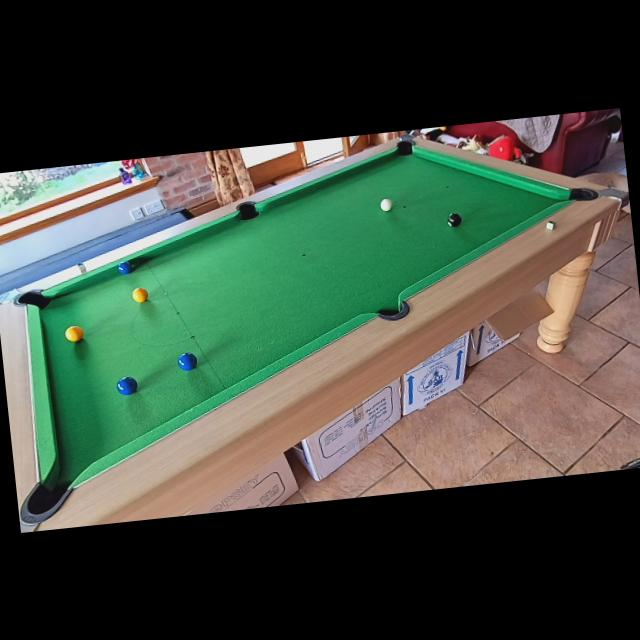Ball: (114, 376, 138, 396), (176, 351, 197, 372), (64, 325, 84, 343), (132, 286, 149, 303), (446, 212, 462, 227), (117, 260, 132, 274), (379, 198, 394, 212)
